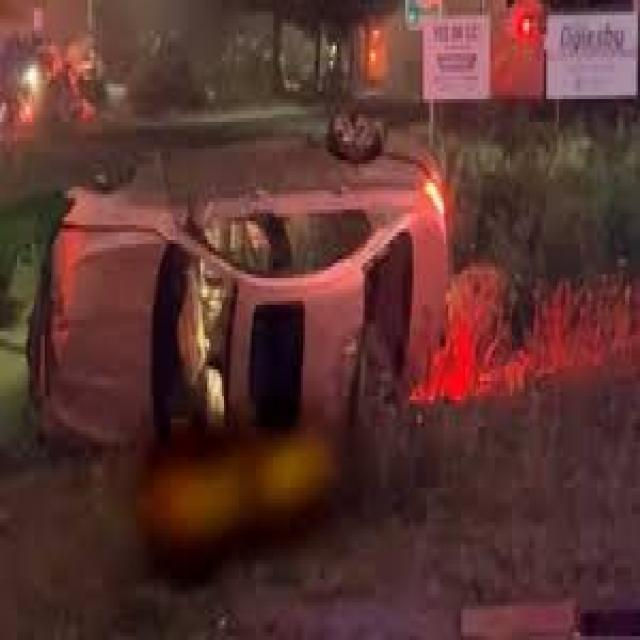Accident: (25, 109, 450, 535)
